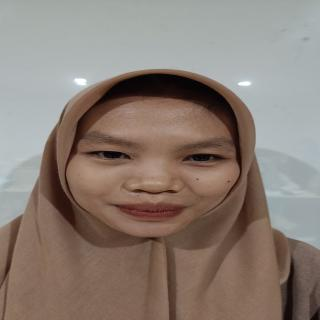Senang: (57, 84, 249, 243)
